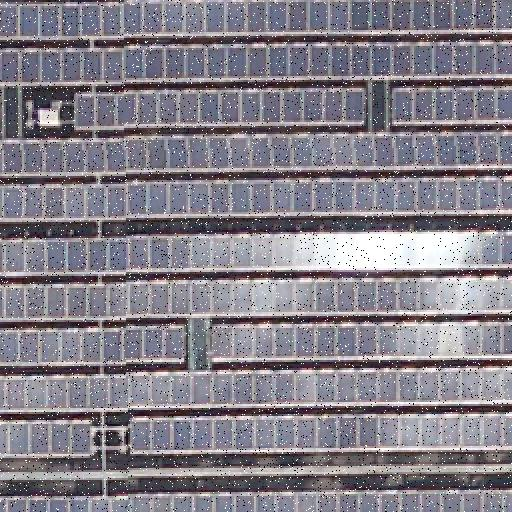solar-panel: (0, 0, 512, 460), (0, 488, 512, 512)
